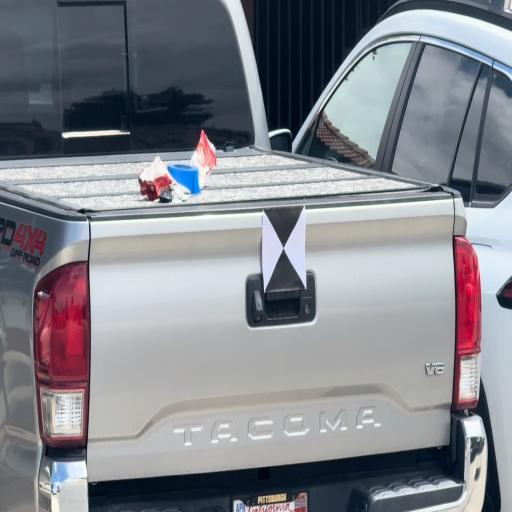target: (263, 208, 306, 288)
